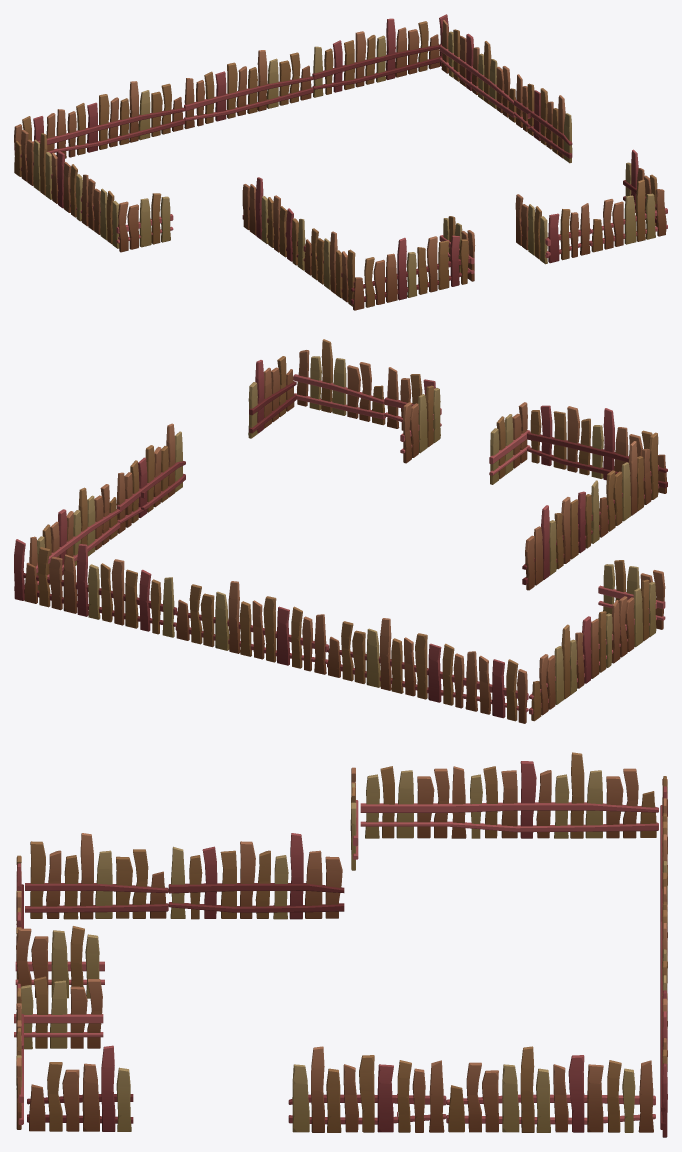
Rendered from !!ACUAN!!.fbx.
3 renders of one model, top to bottom at view 1: azimuth 30°, elevation 25°; view 2: azimuth 150°, elevation 25°; view 3: azimuth 270°, elevation 25°, orthographic. The views are drawn at different scales.
Parts seen in each view (by area): view 1: PAGAR ACUAN; view 2: PAGAR ACUAN; view 3: PAGAR ACUAN.
Part boxes in pixels (x1,y1,x2,y2): PAGAR ACUAN: [14, 14, 667, 310]; PAGAR ACUAN: [14, 339, 667, 723]; PAGAR ACUAN: [14, 752, 667, 1137].
Bounding box in the file's own units: 1435 × 188 × 1305.
1 material, 1 textured.
